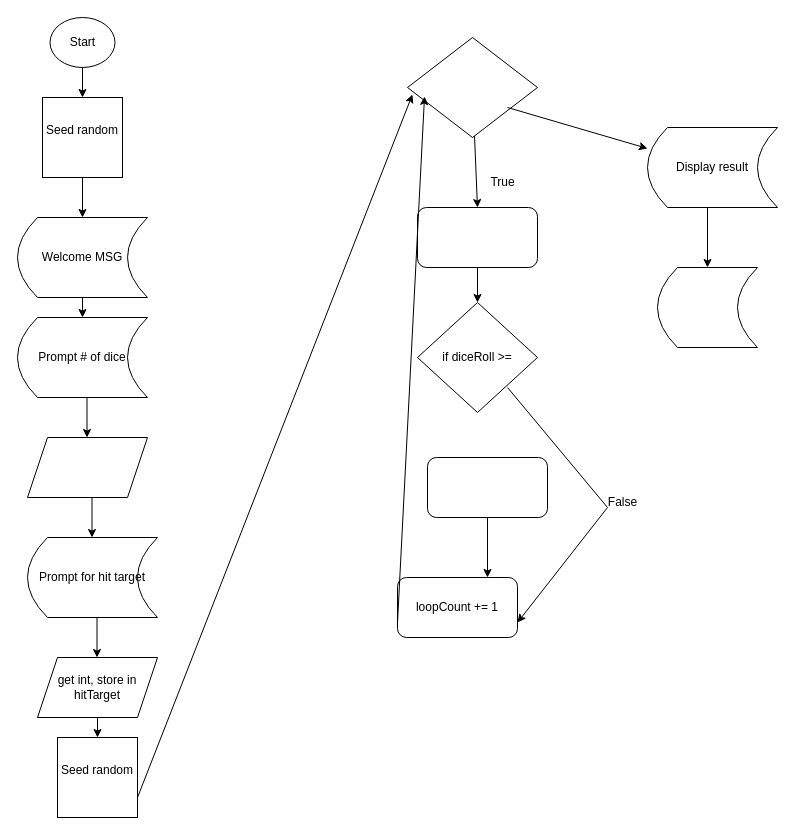
This 795x835 diagram has some shape labels left out. The centre of each missing label's shape, as x and y in pixels:
"End" belongs at (x=707, y=307).
"get int, store in diceCount" belongs at (x=87, y=467).
"hitcount = 1" belongs at (x=487, y=487).
"if loopCount < diceCount" belongs at (x=472, y=87).
"random() store diceRoll" belongs at (x=477, y=237).
